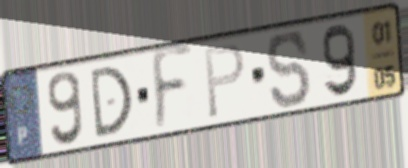9: (45, 69, 85, 149), (320, 22, 360, 100)
D: (88, 63, 135, 142)
F: (150, 42, 196, 138)
P: (202, 40, 247, 122)
S: (265, 28, 314, 112)
